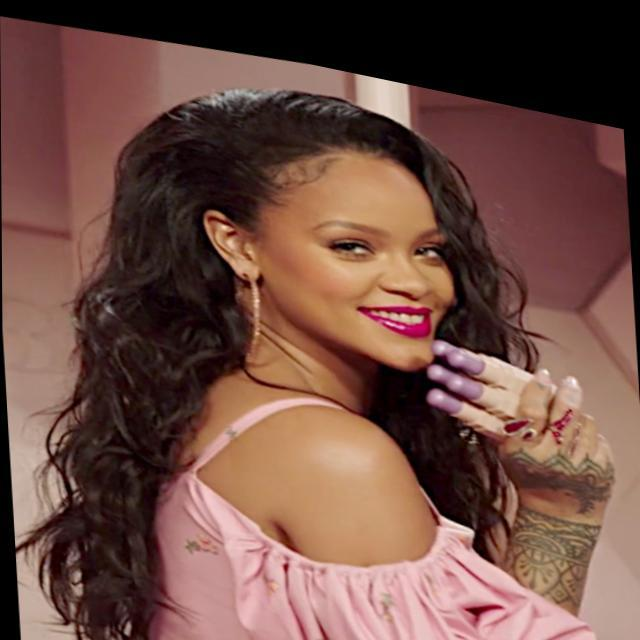Nonhelmet: (199, 83, 476, 383)
